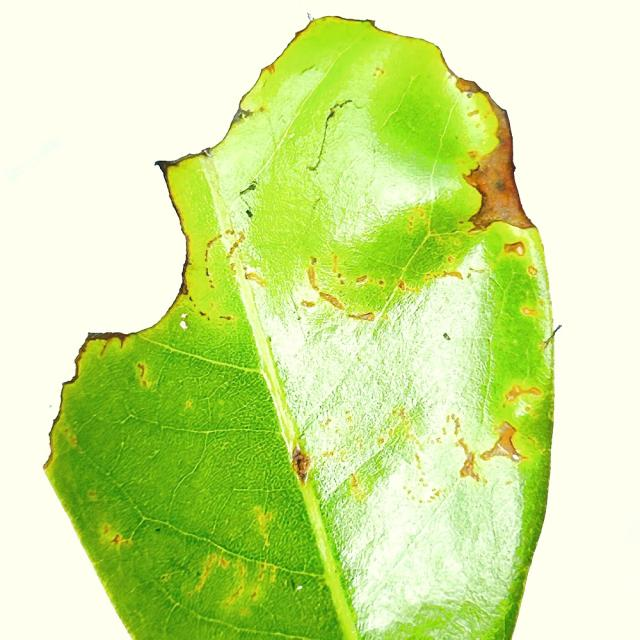Deficiency Leaf: (124, 19, 289, 163), (72, 163, 184, 334), (5, 292, 95, 464)
Lychee: (43, 15, 557, 639)
